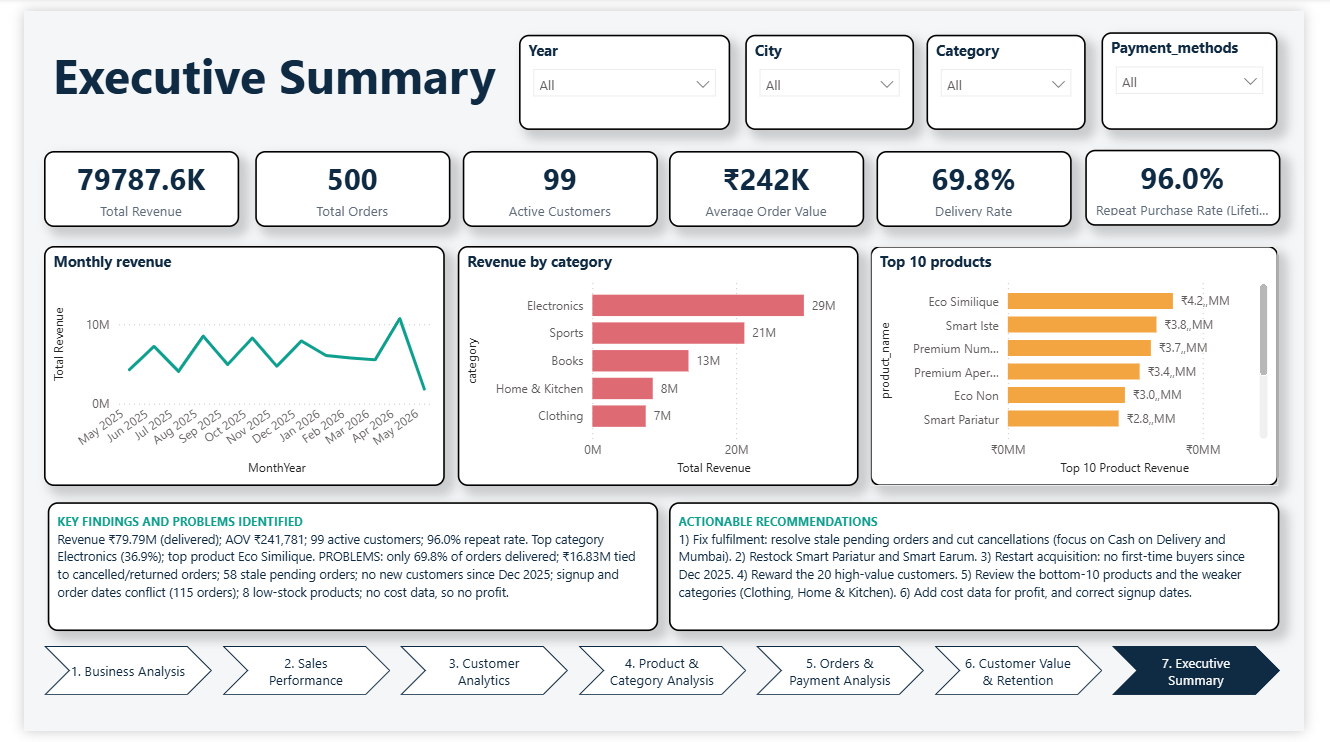

The dashboard page shown, as its layout file describes it:
{"tool":"powerbi","page":{"name":"7. Executive Summary","canvas":[1280,720],"ordinal":6},"visuals":[{"type":"textbox","box":[24.1,8.4,1255.9,146],"z":0},{"type":"slicer","title":"Year","fields":{"Values":["Date.Year"]},"box":[494.6,24.1,211.1,95.3],"z":1000},{"type":"slicer","title":"City","fields":{"Values":["Customers.city"]},"box":[721.5,24.1,168.9,95.3],"z":2000},{"type":"slicer","title":"Category","fields":{"Values":["Products.category"]},"box":[902.4,24.1,159.3,95.3],"z":3000},{"type":"card","fields":{"Values":["_Measures.Total Revenue"]},"box":[20.5,139.9,195,76],"z":4000},{"type":"card","fields":{"Values":["_Measures.Total Orders"]},"box":[231.6,139.9,195,76],"z":5000},{"type":"card","fields":{"Values":["_Measures.Active Customers"]},"box":[439.1,139.9,195,76],"z":6000},{"type":"card","fields":{"Values":["_Measures.Average Order Value"]},"box":[645.4,139.9,195,76],"z":7000},{"type":"card","fields":{"Values":["_Measures.Delivery Rate"]},"box":[853,139.9,195,76],"z":8000},{"type":"card","fields":{"Values":["_Measures.Repeat Purchase Rate (Lifetime)"]},"box":[1061.7,138.7,195,76],"z":9000},{"type":"lineChart","title":"Monthly revenue","fields":{"Category":["Date.MonthYear"],"Y":["_Measures.Total Revenue"]},"box":[20.5,235.3,400.5,240.1],"z":10000},{"type":"clusteredBarChart","title":"Revenue by category","fields":{"Category":["Products.category"],"Y":["_Measures.Total Revenue"]},"box":[434.3,235.3,400.5,240.1],"z":11000},{"type":"clusteredBarChart","title":"Top 10 products","fields":{"Category":["Products.product_name"],"Y":["_Measures.Top 10 Product Revenue"]},"box":[845.7,235.3,407.8,240.1],"z":12000},{"type":"textbox","box":[24.1,491,610.5,129.1],"z":13000},{"type":"textbox","box":[645.4,491,610.5,129.1],"z":14000},{"type":"slicer","title":"Payment_methods","fields":{"Values":["Orders.payment_method"]},"box":[1077.4,21.7,176.1,97.7],"z":15000},{"type":"pageNavigator","box":[20.5,634.6,1236.6,49.5],"z":15001}]}

Visuals, with their boxes in screenshot pixels (x1, y1, x2, y2), scaled from the page's 1280x720 canvas onto the 1330x742 screenshot:
textbox: x1=25, y1=9, x2=1329, y2=159
"Year" slicer: x1=514, y1=25, x2=733, y2=123
"City" slicer: x1=750, y1=25, x2=925, y2=123
"Category" slicer: x1=938, y1=25, x2=1103, y2=123
card - _Measures.Total Revenue: x1=21, y1=144, x2=224, y2=222
card - _Measures.Total Orders: x1=241, y1=144, x2=443, y2=222
card - _Measures.Active Customers: x1=456, y1=144, x2=659, y2=222
card - _Measures.Average Order Value: x1=671, y1=144, x2=873, y2=222
card - _Measures.Delivery Rate: x1=886, y1=144, x2=1089, y2=222
card - _Measures.Repeat Purchase Rate (Lifetime): x1=1103, y1=143, x2=1306, y2=221
"Monthly revenue" lineChart: x1=21, y1=242, x2=437, y2=490
"Revenue by category" clusteredBarChart: x1=451, y1=242, x2=867, y2=490
"Top 10 products" clusteredBarChart: x1=879, y1=242, x2=1302, y2=490
textbox: x1=25, y1=506, x2=659, y2=639
textbox: x1=671, y1=506, x2=1305, y2=639
"Payment_methods" slicer: x1=1119, y1=22, x2=1302, y2=123
pageNavigator: x1=21, y1=654, x2=1306, y2=705
